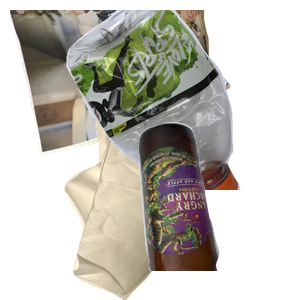glass: (136, 120, 300, 300)
paper: (10, 10, 233, 158)
plastic: (64, 10, 300, 190)
trash: (62, 120, 251, 300)
